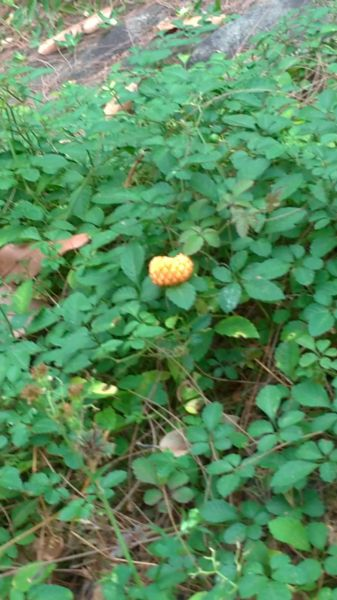eggs: (144, 247, 198, 289)
